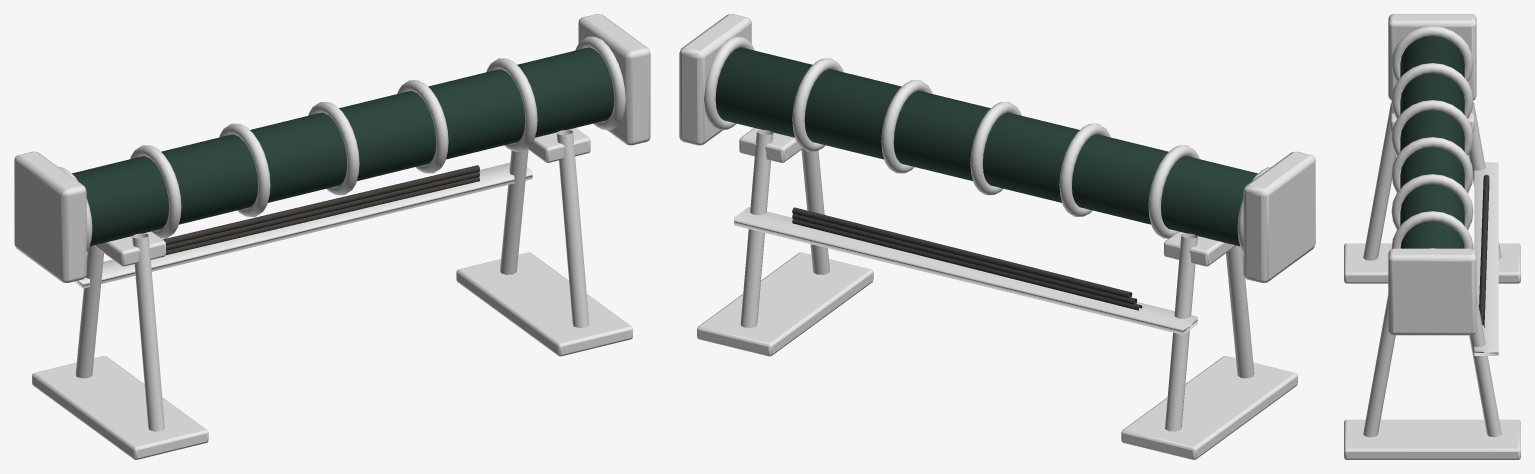
The model's file is prop_traffic_data-stream.glb.
3 renders of one model, left to right at view 1: azimuth 30°, elevation 25°; view 2: azimuth 150°, elevation 25°; view 3: azimuth 270°, elevation 25°, orthographic. The views are drawn at different scales.
Visible parts, largest first — view 1: ground__iron_decay, ground__stream_pipe, ground__trim_brass, ground__soot_iron, ground__cable; view 2: ground__iron_decay, ground__stream_pipe, ground__trim_brass, ground__soot_iron, ground__cable; view 3: ground__iron_decay, ground__stream_pipe, ground__trim_brass, ground__soot_iron, ground__cable.
Part boxes in pixels (bbox=[...]): ground__iron_decay: bbox=[14, 14, 650, 459]; ground__stream_pipe: bbox=[72, 47, 614, 246]; ground__trim_brass: bbox=[59, 36, 625, 251]; ground__soot_iron: bbox=[74, 162, 532, 288]; ground__cable: bbox=[163, 165, 479, 254]; ground__iron_decay: bbox=[679, 14, 1315, 459]; ground__stream_pipe: bbox=[715, 47, 1257, 246]; ground__trim_brass: bbox=[704, 36, 1270, 251]; ground__soot_iron: bbox=[734, 207, 1197, 334]; ground__cable: bbox=[792, 207, 1142, 310]; ground__iron_decay: bbox=[1344, 14, 1520, 459]; ground__stream_pipe: bbox=[1400, 36, 1464, 248]; ground__trim_brass: bbox=[1391, 26, 1473, 248]; ground__soot_iron: bbox=[1474, 162, 1498, 355]; ground__cable: bbox=[1479, 174, 1489, 327].
Size of the model in its own units: 2.36 by 1 by 0.72.
